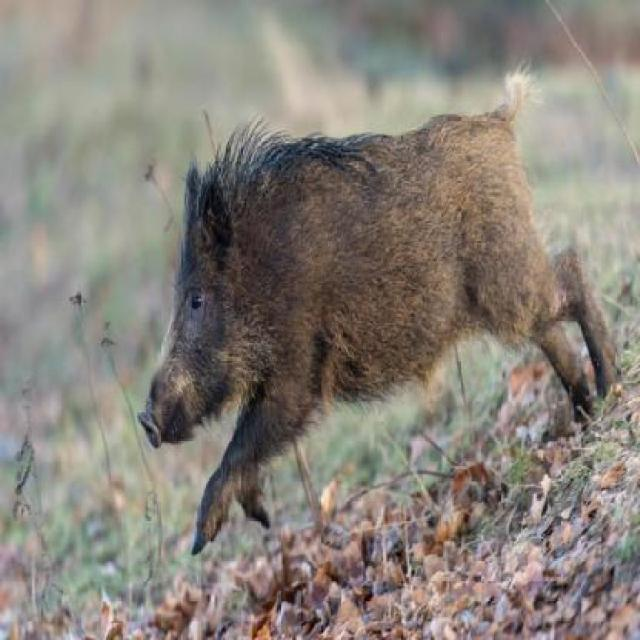wildboar: (135, 56, 627, 558)
